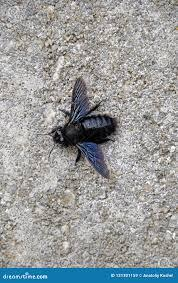Xylocopa: (50, 68, 122, 184)
